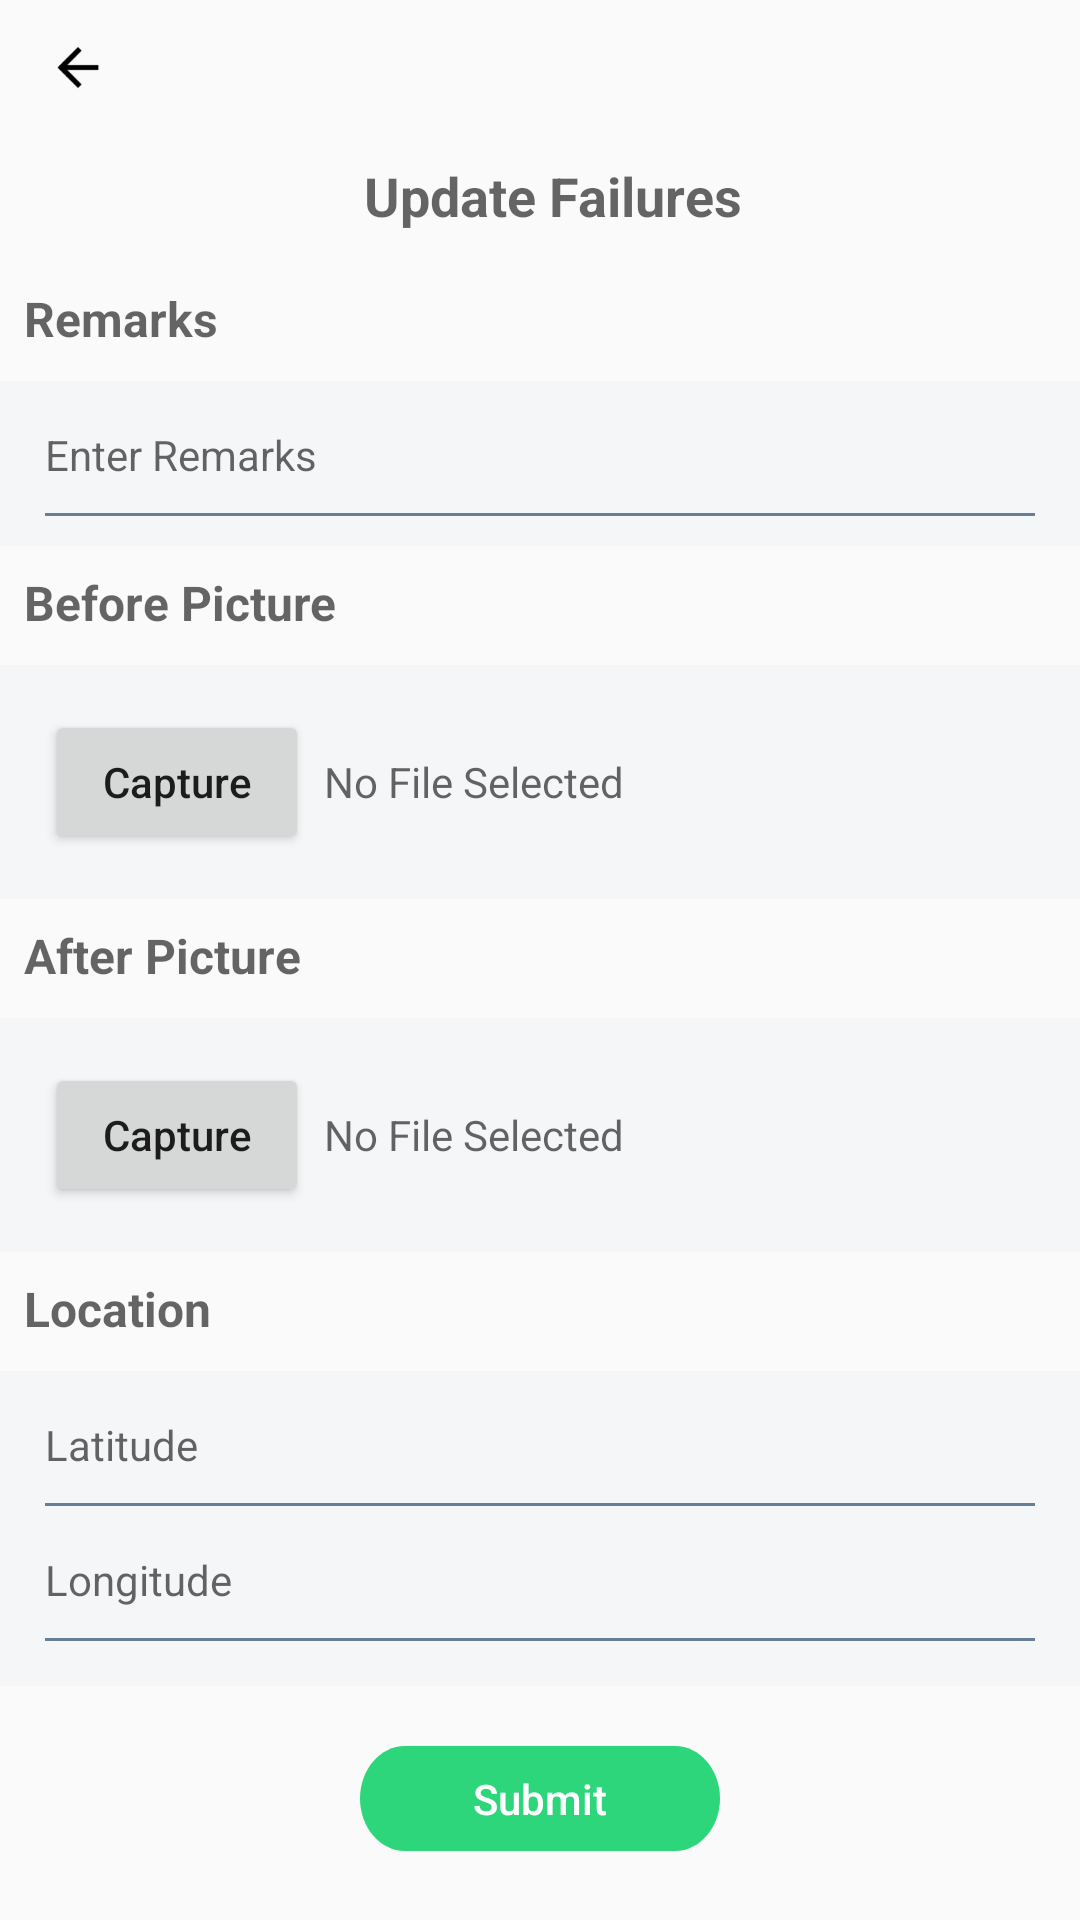

Screen size 1080w x 1920h. Icon name, then its box in pixels as (x1, y1, x2, y2):
arrow back: (57, 47, 99, 88)
